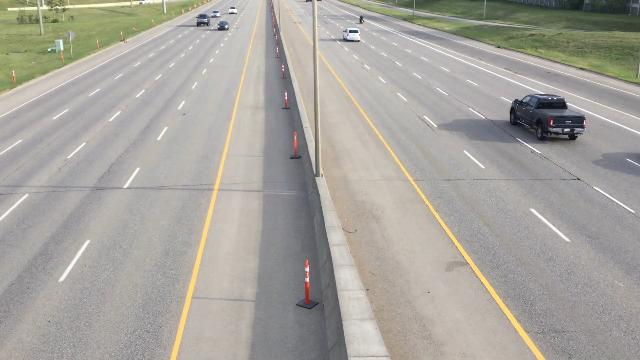car: (342, 26, 362, 43), (196, 12, 212, 28), (217, 19, 231, 32), (227, 7, 240, 14), (211, 11, 221, 17)
motorcycle: (358, 15, 366, 23)
pickup-truck: (508, 89, 589, 143)
